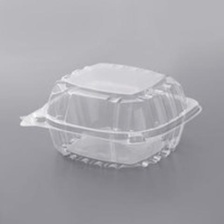plastic_box: (13, 56, 208, 176)
